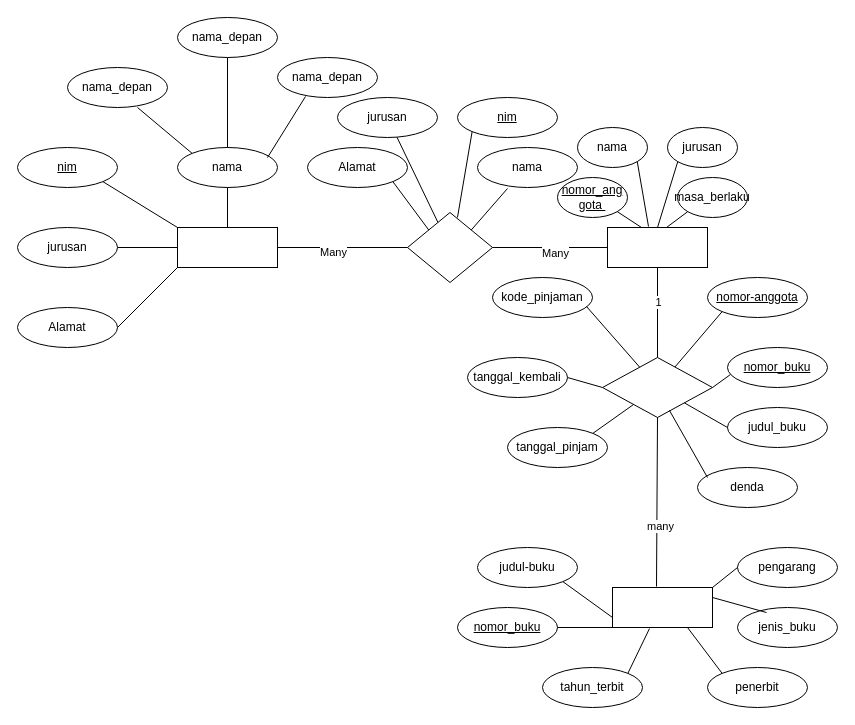
This 855x725 diagram has some shape labels left out. The centre of each missing label's shape, as x and y in pixels:
"anggota perpustakan" belongs at pixel 657 247.
"Entity" belongs at pixel 662 607.
"Mahasiswa" belongs at pixel 227 247.
"meminjam buku" belongs at pixel 657 387.
"mendaftar" belongs at pixel 449 247.
